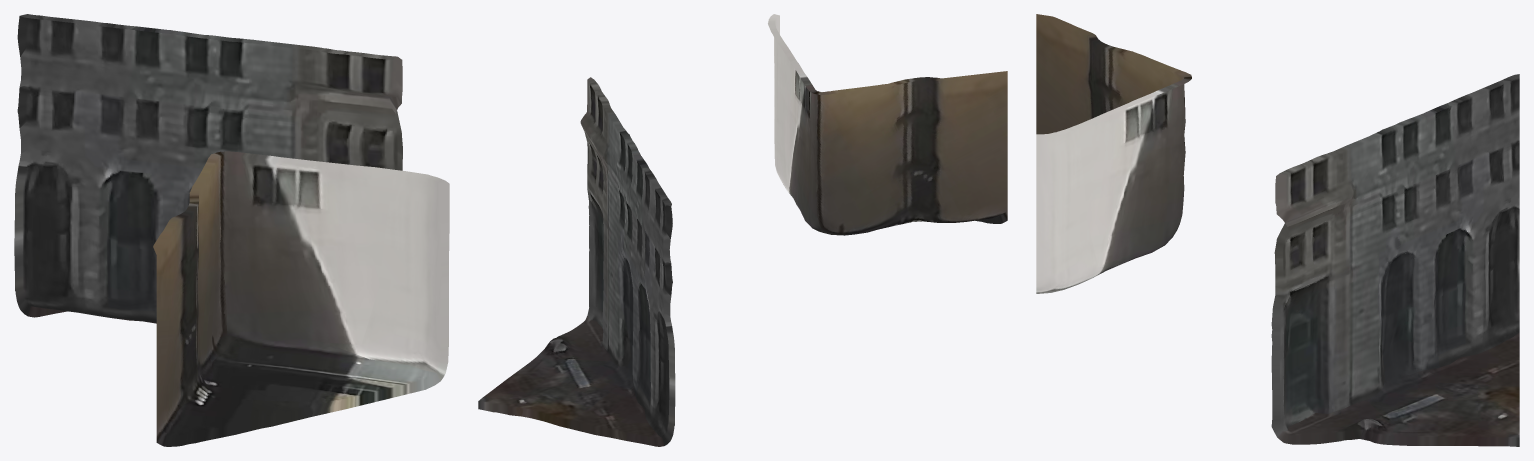
The model's file is z20-167781-405231-h0-yup-uvflip-v3-world.glb.
The picture shows the model from 3 angles, left to right: view 1: azimuth 30°, elevation 25°; view 2: azimuth 150°, elevation 25°; view 3: azimuth 270°, elevation 25°; orthographic projection. The views are drawn at different scales.
Bounding box in the file's own units: 24.08 × 18.76 × 30.32.
1 material, 1 textured.
